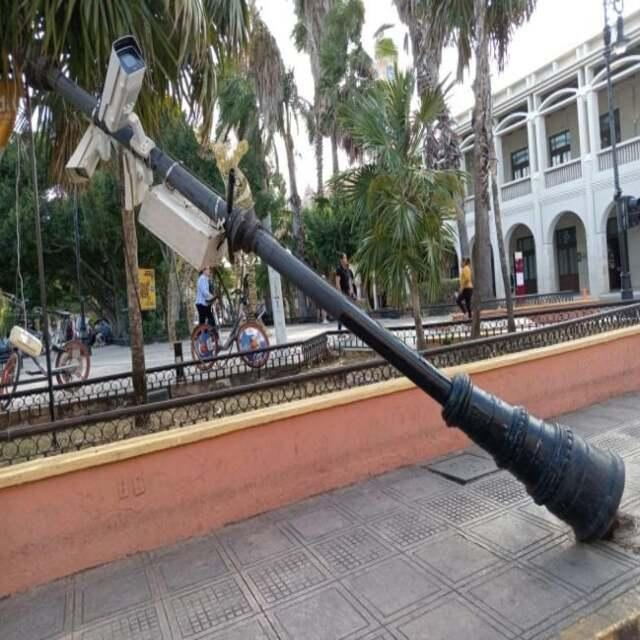Inclined Pole: (22, 35, 628, 544)
